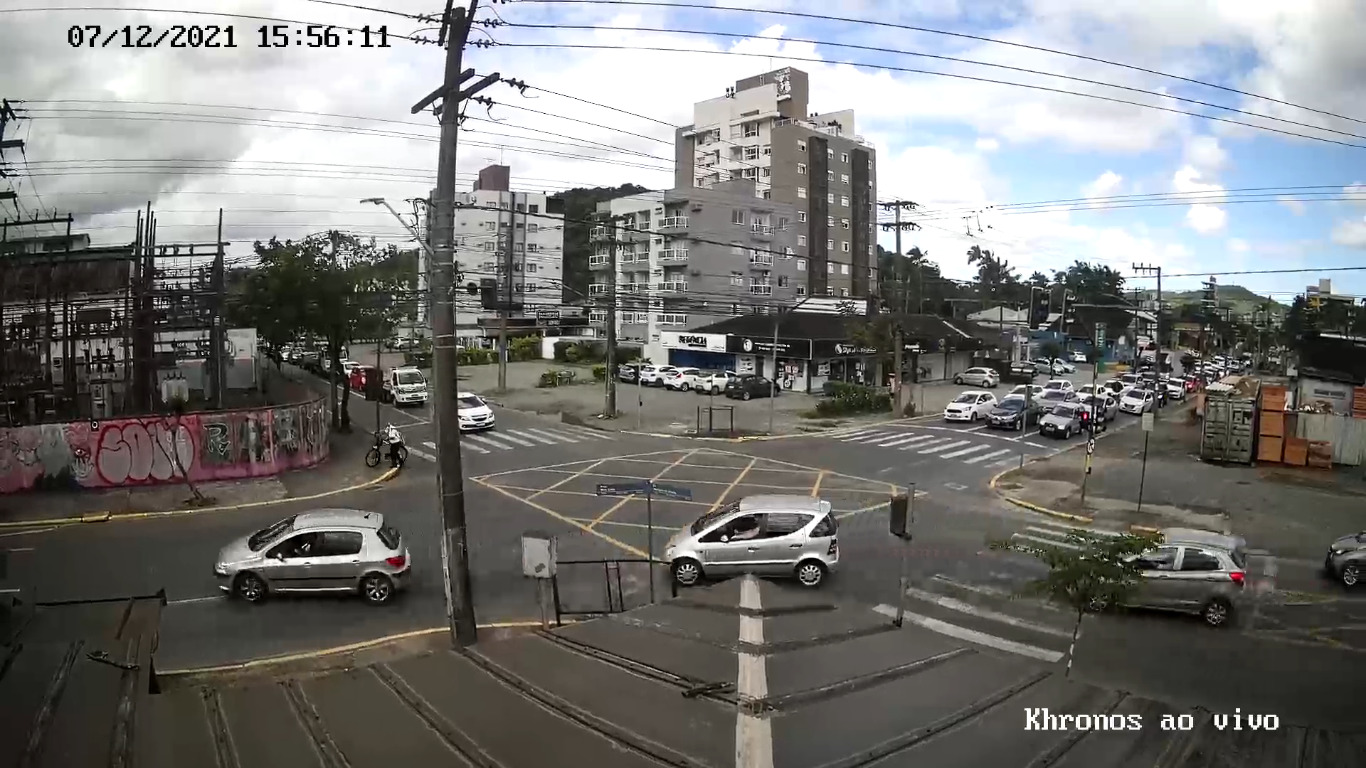car: (213, 508, 413, 605), (660, 494, 841, 592)
